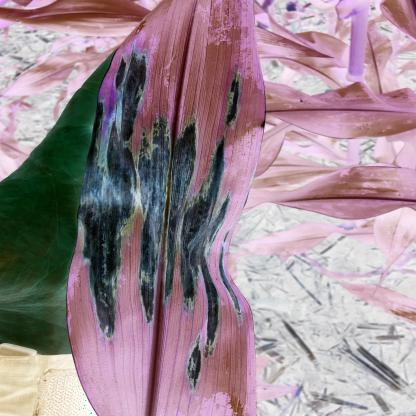corn leaf blight: (90, 3, 257, 416)
